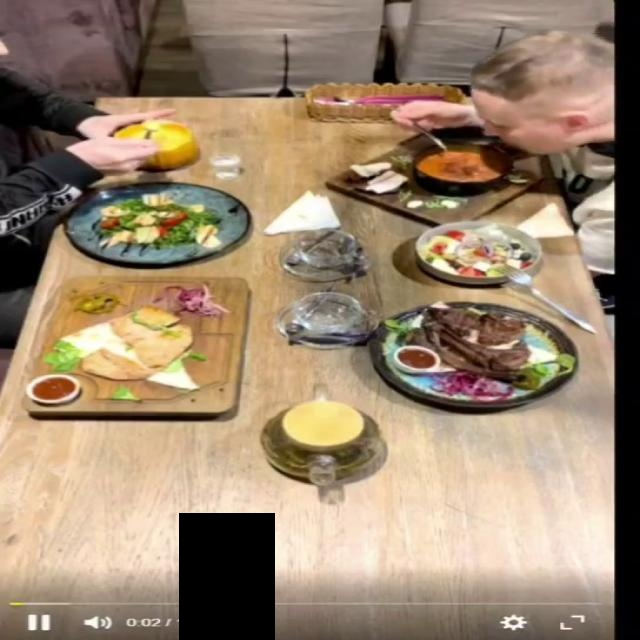meat: (21, 275, 247, 415), (366, 300, 579, 408)
salad: (61, 182, 249, 265), (414, 220, 544, 285)
soup: (323, 131, 543, 226), (98, 90, 178, 179)
tea: (248, 380, 402, 486)
